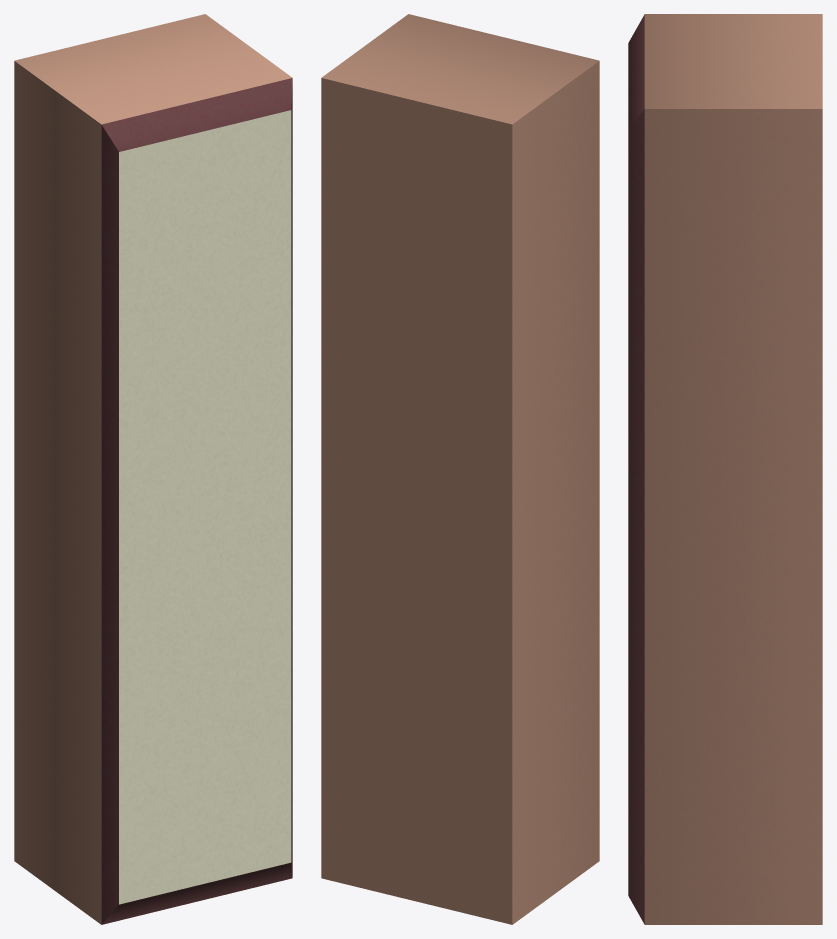
The model's file is PR_UprightLocker.fbx.
3 renders of one model, left to right at view 1: azimuth 30°, elevation 25°; view 2: azimuth 150°, elevation 25°; view 3: azimuth 270°, elevation 25°, orthographic.
Parts seen in each view (by area): view 1: pCube1; view 2: pCube1; view 3: pCube1.
Boxes of the visible parts, x1,y1,x2,y2 form: pCube1: [14, 14, 292, 924]; pCube1: [321, 14, 599, 924]; pCube1: [628, 14, 822, 924].
Size of the model in its own units: 0.55 by 2.2 by 0.475.
